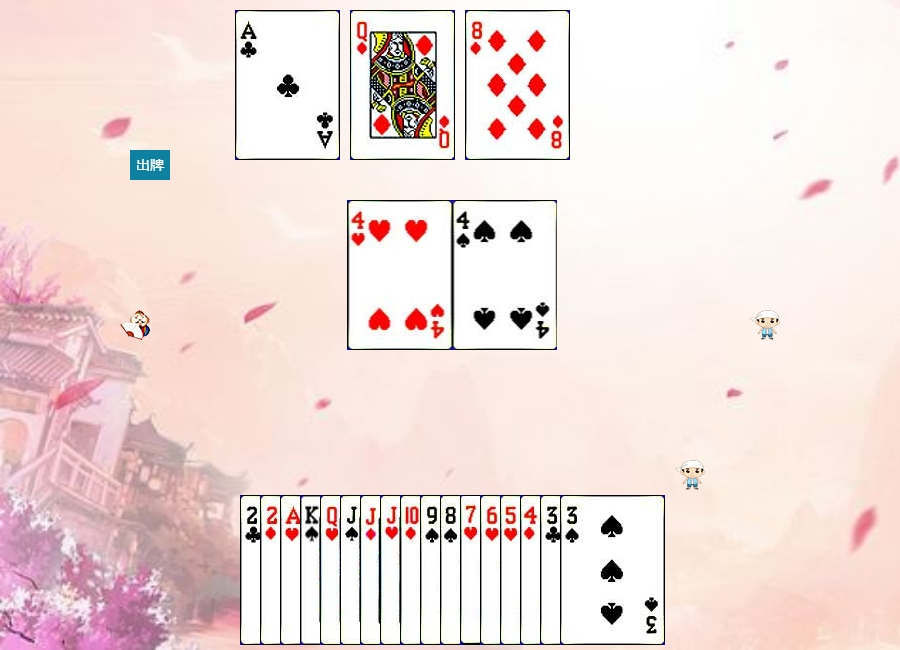10~1: (400, 495, 505, 645)
11~1: (360, 495, 465, 645)
11~3: (380, 495, 485, 645)
11~4: (340, 495, 445, 645)
12~1: (350, 10, 455, 160)
12~3: (320, 495, 425, 645)
13~4: (300, 495, 405, 645)
14~2: (235, 10, 340, 160)
14~3: (280, 495, 385, 645)
15~1: (260, 495, 365, 645)
15~2: (240, 495, 345, 645)
3~2: (540, 495, 645, 645)
3~4: (560, 495, 665, 645)
4~1: (520, 495, 625, 645)
4~3: (348, 200, 453, 350)
4~4: (453, 200, 558, 350)
5~3: (500, 495, 605, 645)
6~3: (480, 495, 585, 645)
7~3: (460, 495, 565, 645)
8~1: (465, 10, 570, 160)
8~4: (440, 495, 545, 645)
9~4: (420, 495, 525, 645)
